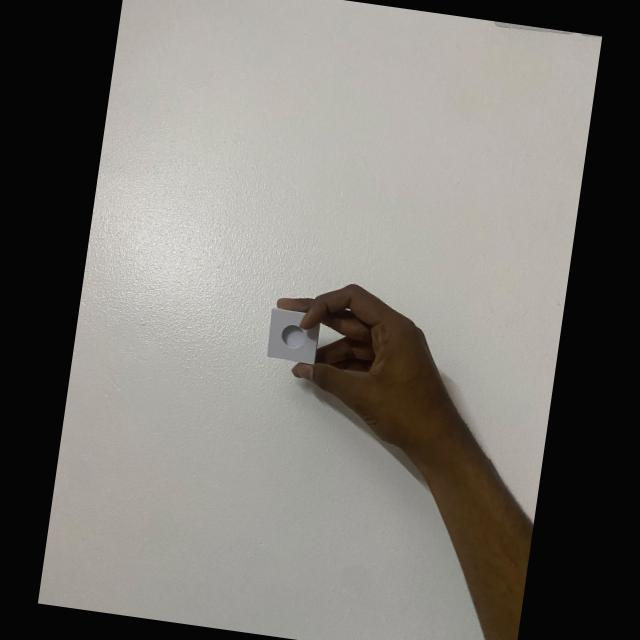RASPBERY PI CAM ENCLOSURE: (265, 308, 322, 365)
